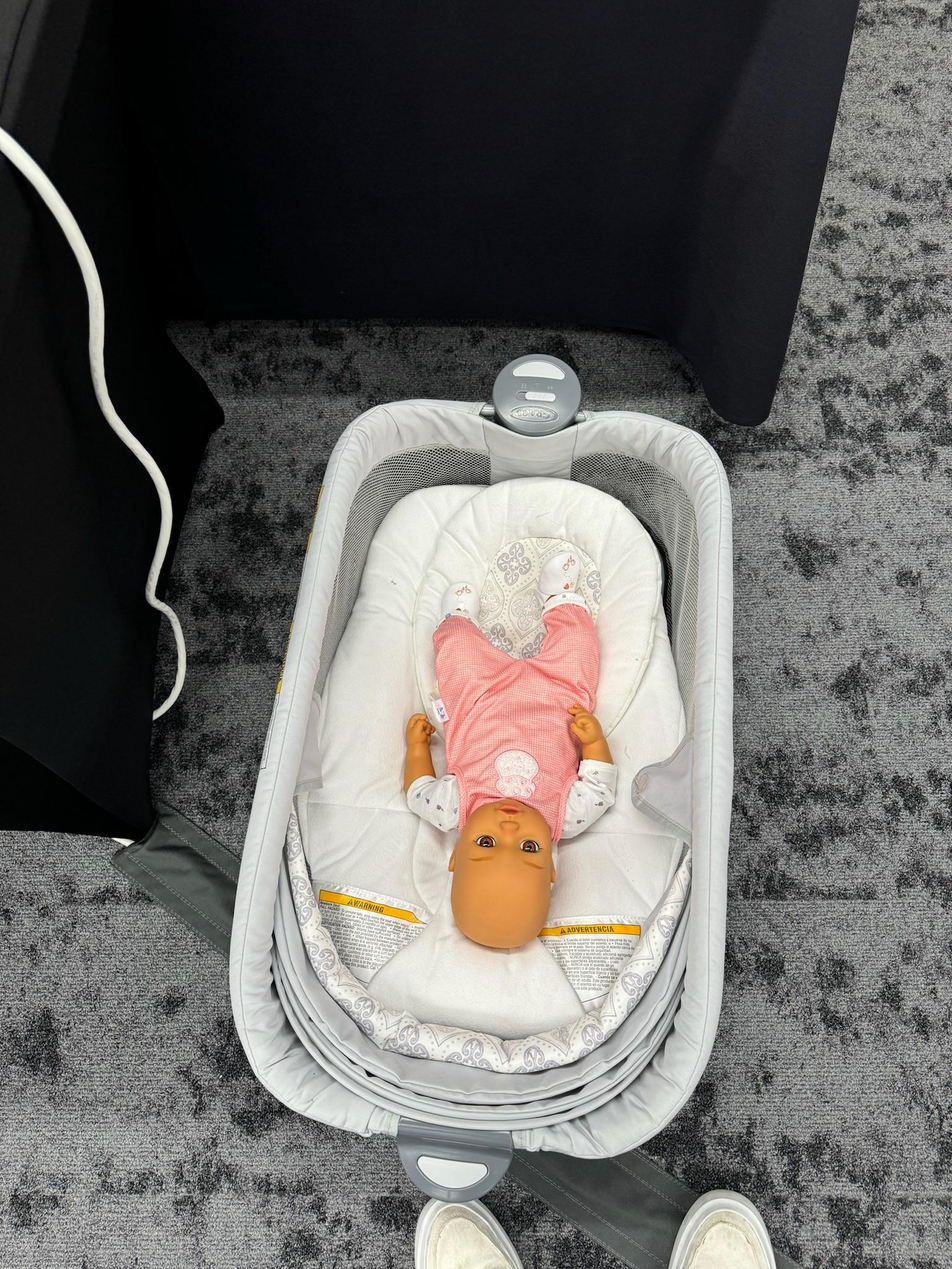baby: (401, 546, 617, 953)
